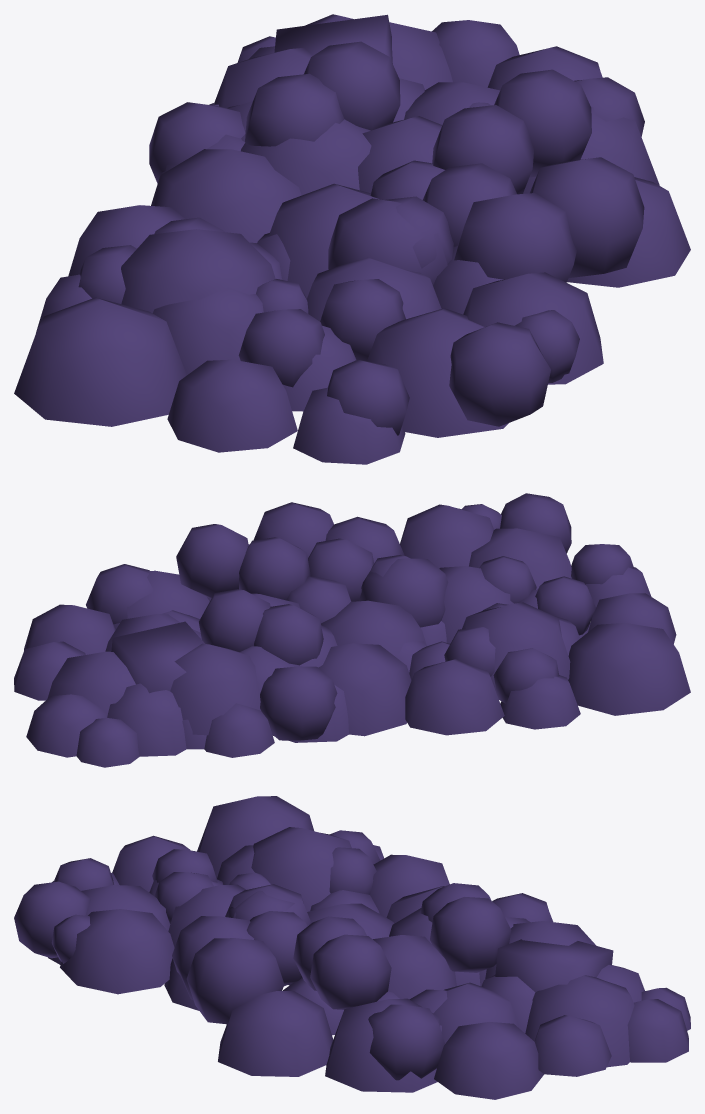
File: SM_ballMound_B.fbx
3 renders of one model, top to bottom at view 1: azimuth 30°, elevation 25°; view 2: azimuth 150°, elevation 25°; view 3: azimuth 270°, elevation 25°, orthographic. The views are drawn at different scales.
Visible parts, largest first — view 1: SM_ballMound_B; view 2: SM_ballMound_B; view 3: SM_ballMound_B.
Boxes of the visible parts, x1=… form: SM_ballMound_B: x1=14, y1=14, x2=690, y2=464; SM_ballMound_B: x1=14, y1=493, x2=690, y2=767; SM_ballMound_B: x1=14, y1=796, x2=690, y2=1099.
Bounding box in the file's own units: 1.9 × 0.3991 × 2.02.
